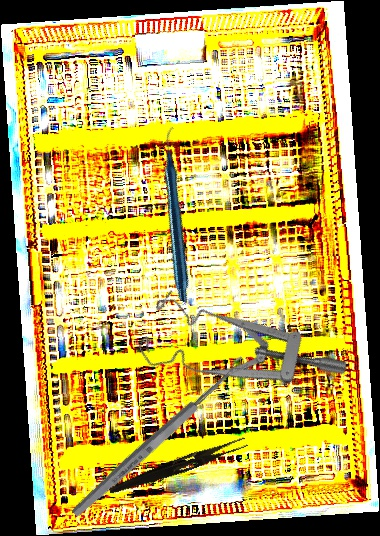Dressing Forceps: (107, 431, 249, 502)
Handpiece: (96, 125, 262, 305)
Speculum: (124, 253, 353, 460)
Surgical Spoon: (69, 355, 250, 520)
